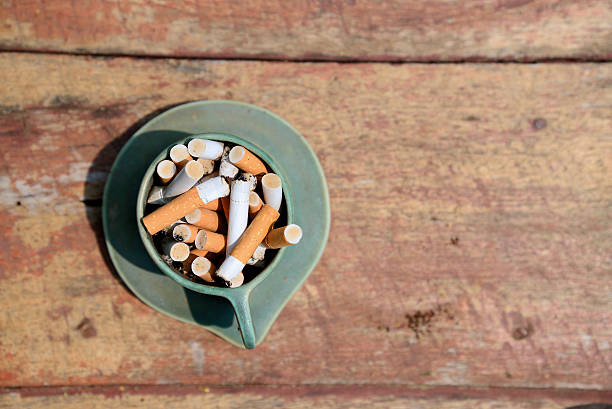cigarette: (139, 175, 230, 235), (216, 203, 280, 282), (146, 160, 205, 207), (226, 179, 252, 255), (184, 207, 226, 235), (228, 145, 267, 175), (259, 224, 304, 250), (188, 137, 224, 160), (262, 173, 283, 210), (195, 228, 226, 253), (191, 256, 217, 283), (172, 221, 196, 244), (170, 143, 192, 167), (163, 241, 191, 259), (156, 160, 176, 184), (226, 274, 246, 289)
